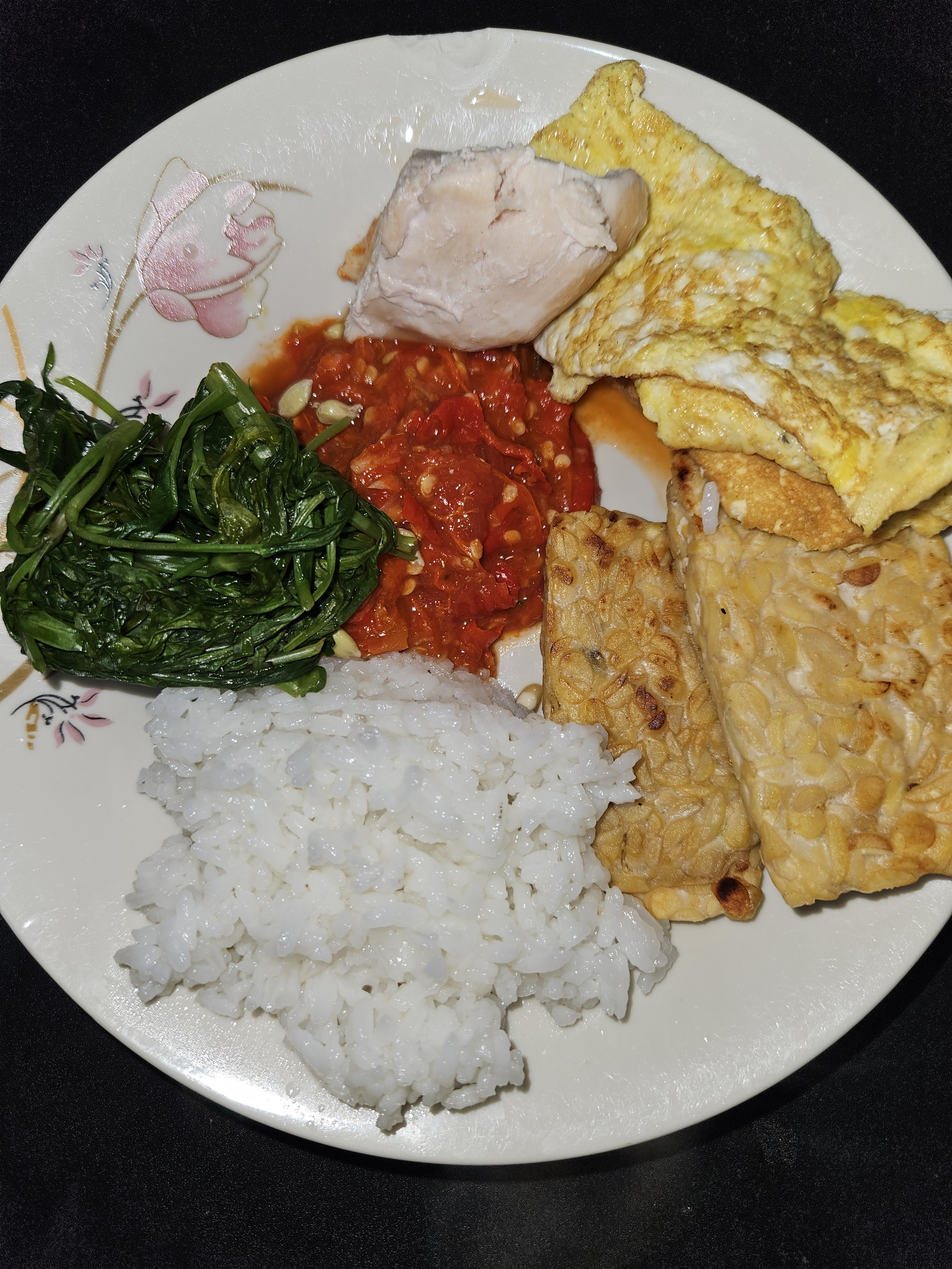buah_sayur_lainnya: (0, 393, 327, 677)
daging: (374, 155, 616, 339)
kacang_legume: (552, 512, 949, 925)
makanan_berpati: (146, 696, 570, 1096)
telur: (612, 97, 946, 460)
